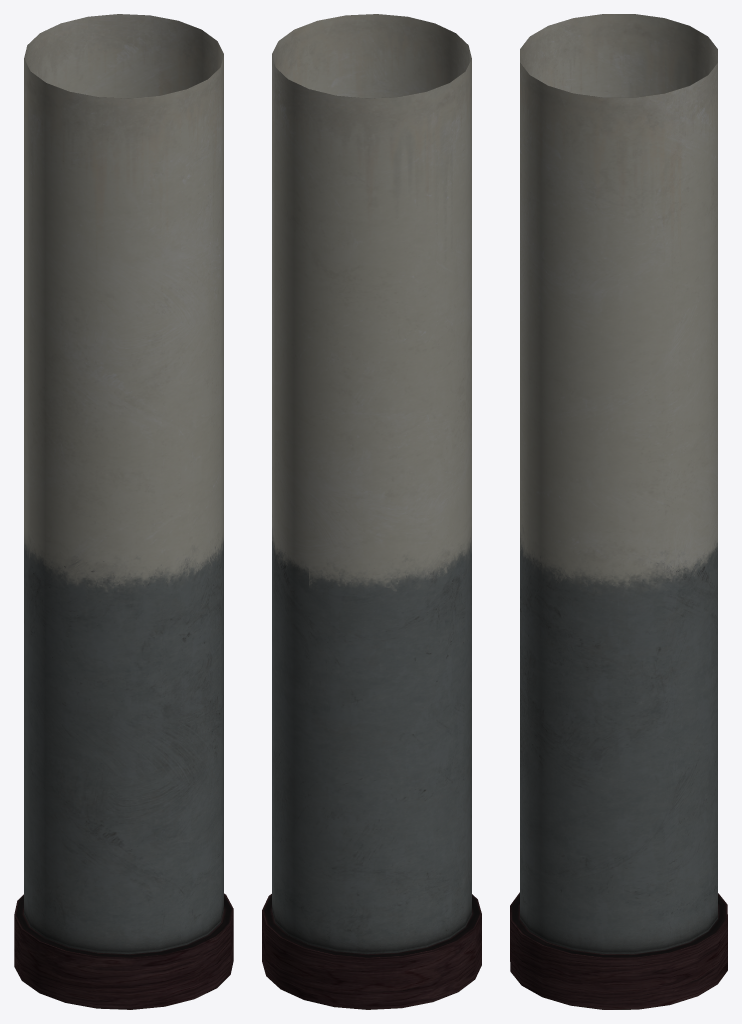
File: Wall 4 Pillar 4.fbx
3 renders of one model, left to right at view 1: azimuth 30°, elevation 25°; view 2: azimuth 150°, elevation 25°; view 3: azimuth 270°, elevation 25°, orthographic.
Parts seen in each view (by area): view 1: Wall_4_Pillar_4; view 2: Wall_4_Pillar_4; view 3: Wall_4_Pillar_4.
Part boxes in pixels (bbox=[...]): Wall_4_Pillar_4: bbox=[14, 14, 233, 1009]; Wall_4_Pillar_4: bbox=[262, 14, 481, 1009]; Wall_4_Pillar_4: bbox=[510, 14, 727, 1009].
Size of the model in its own units: 65.26 by 300 by 65.26.
